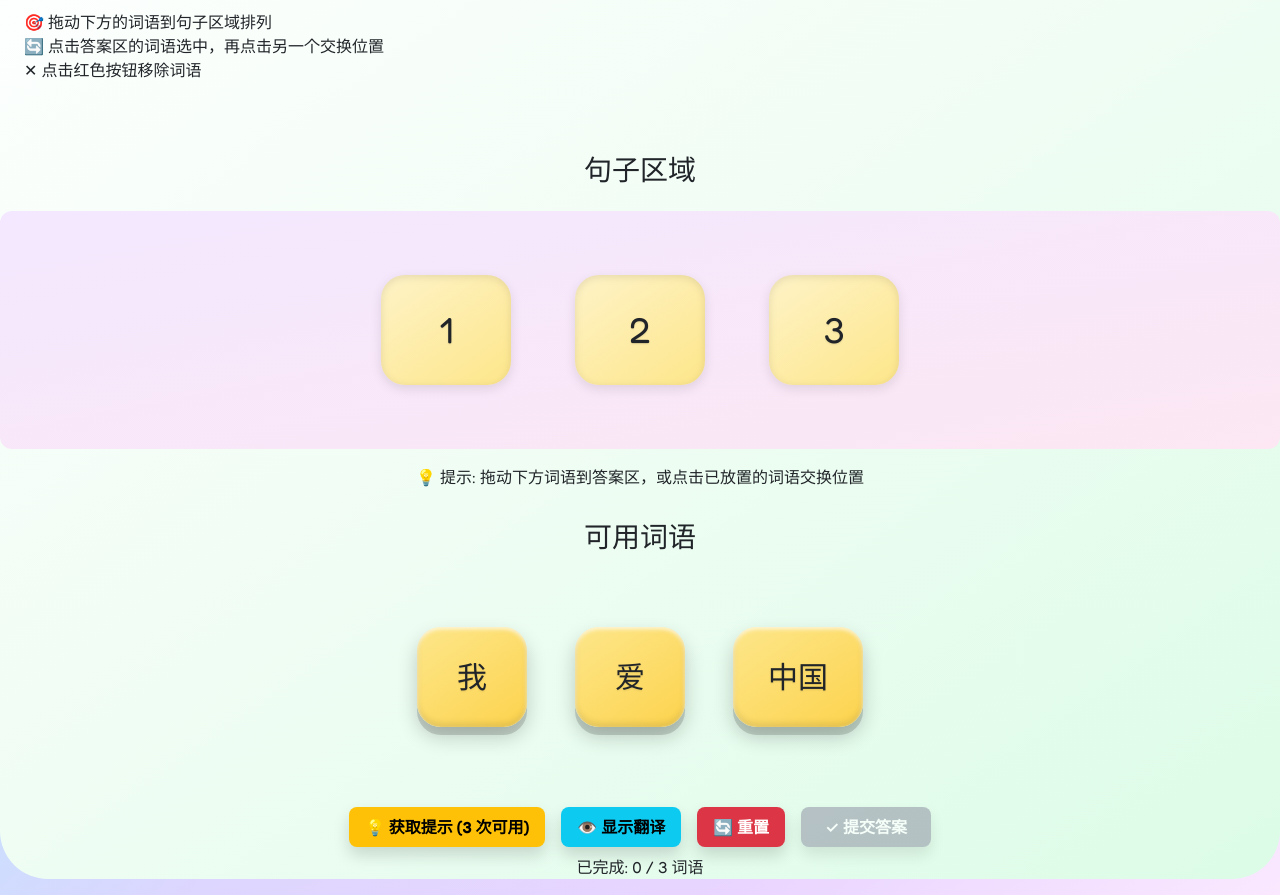
Test case: SentenceGame › Translation Functionality › should toggle translation visibility
(page scrolled)
Click the button "👁️ 显示翻译". click: (621, 827)
box: [561,807,681,847]
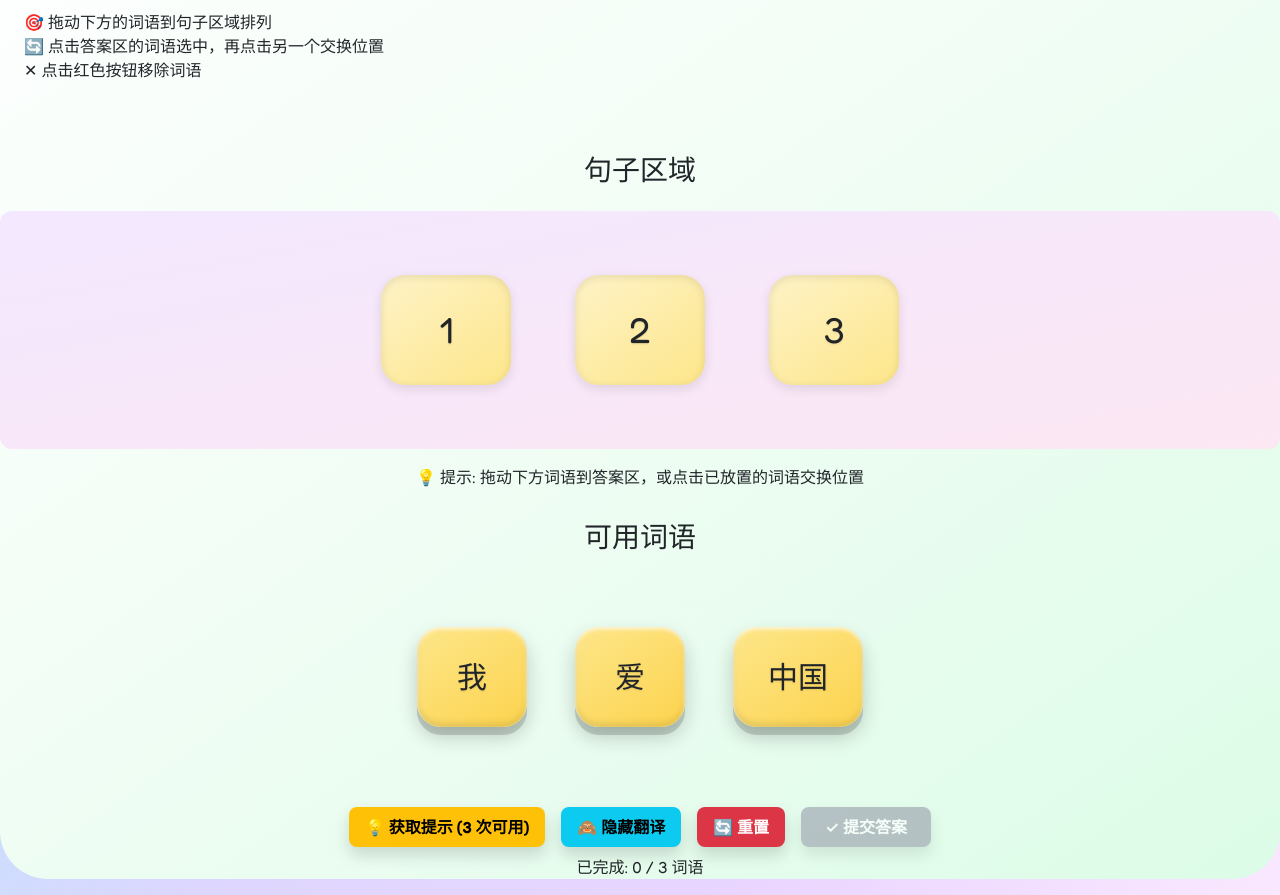
Check: the button "🙈 隐藏翻译" is shown, box [561,807,681,847]
